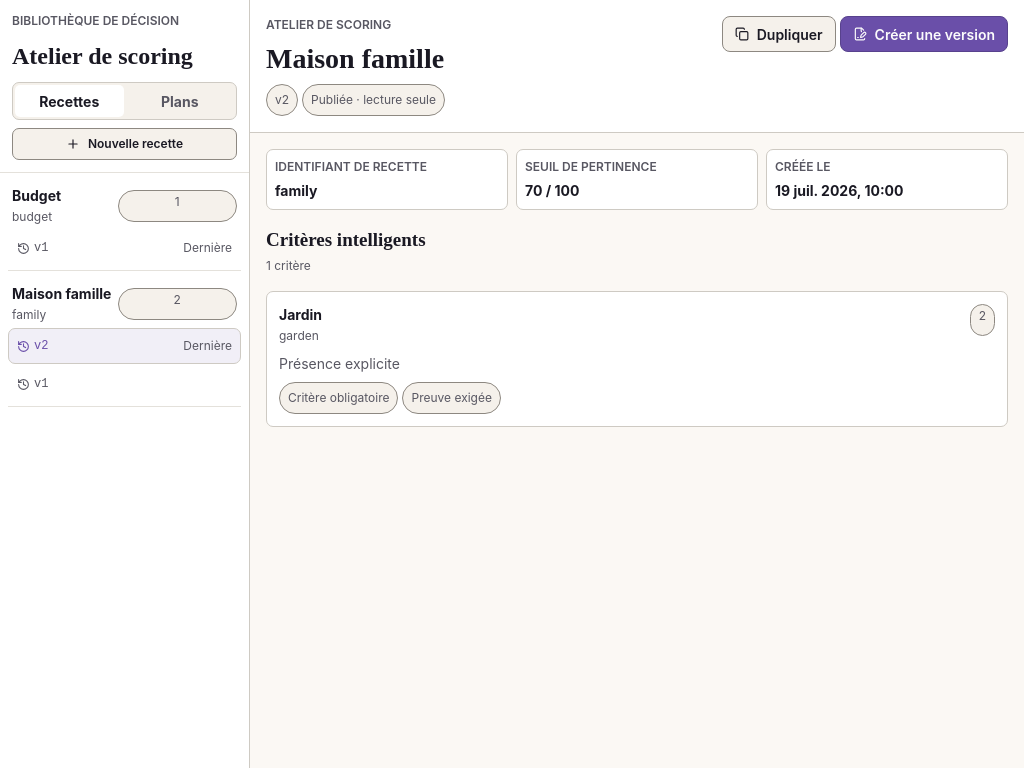
BuilderView › pauses a conflicting editor until the user chooses the other tab's version
Expected: the heading "Maison famille" is shown, [266,38,445,80]
Click the button "Créer une version".
click(924, 34)  # box [840,16,1008,52]
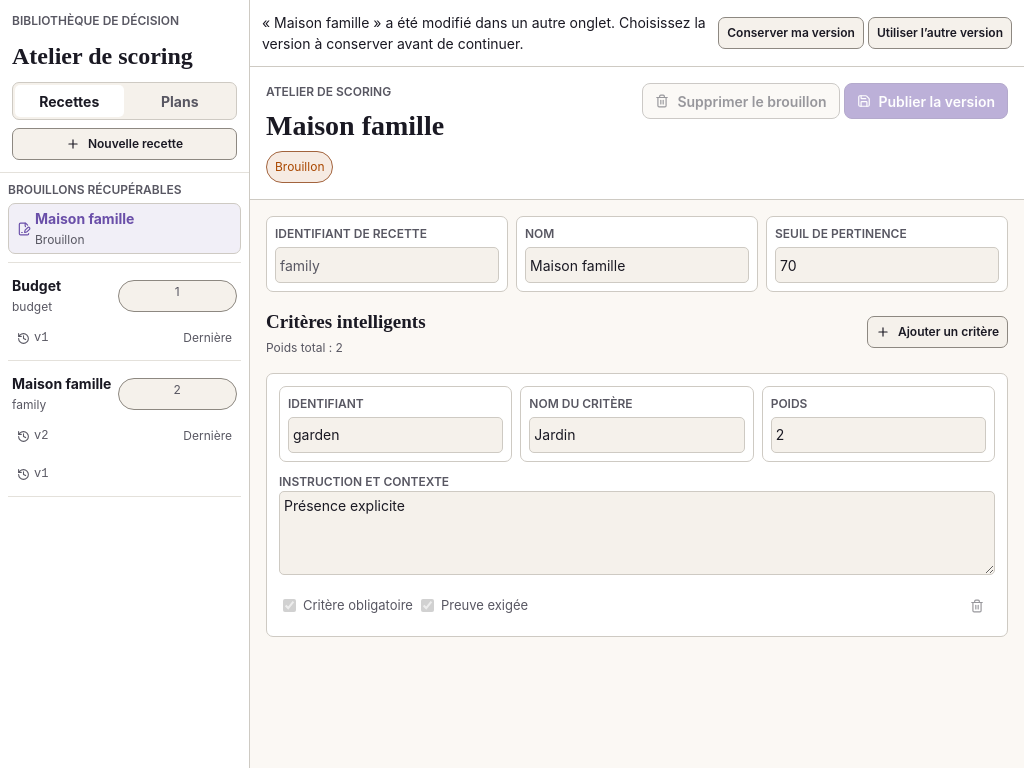
Now the text "a été modifié dans un autre onglet" is shown, box [262,14,706,52]
Now the field labelled "Nom" holds "Maison famille", box [525,247,749,283]
Now the button "Publier la version" is disabled, box [844,83,1008,119]
Click the button "Utiliser l’autre version".
click(940, 33)  # box [868,17,1012,49]
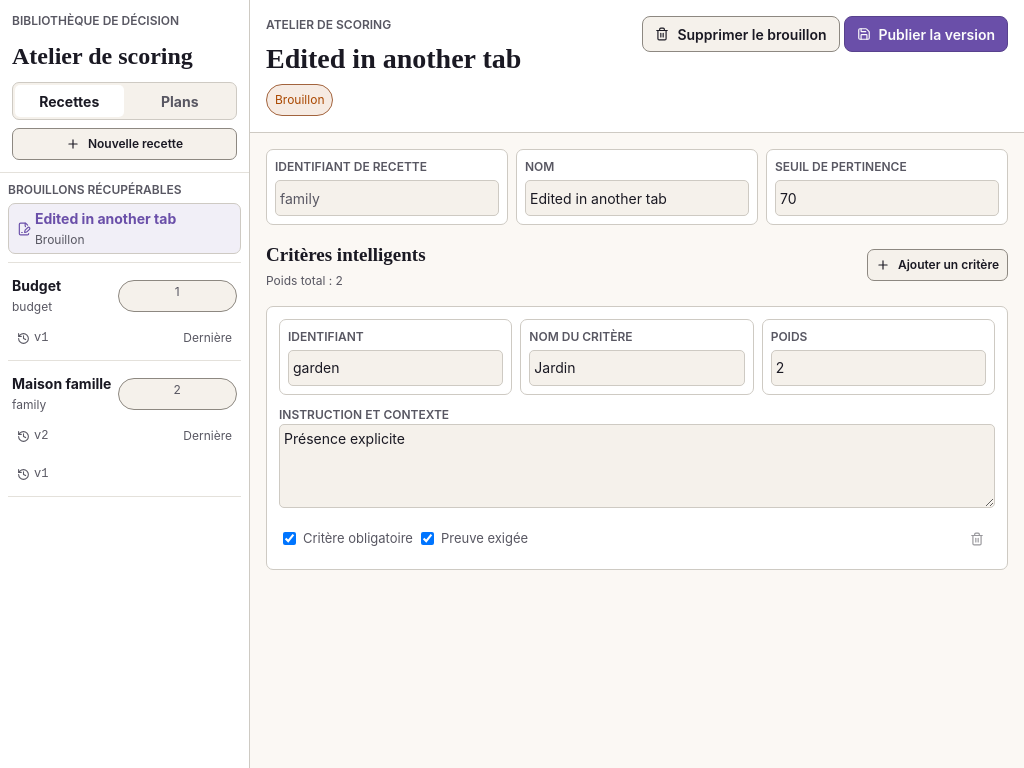
Now the field labelled "Nom" holds "Edited in another tab", box [525,180,749,216]
Now the button "Publier la version" is enabled, box [844,16,1008,52]
